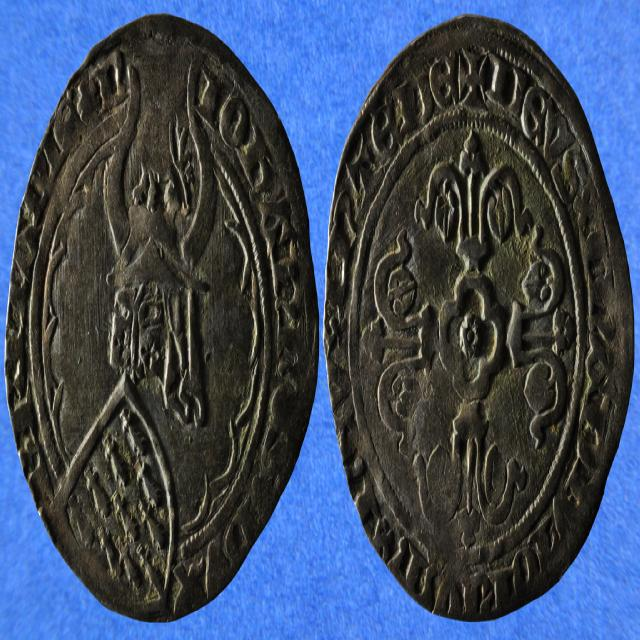Coin: (3, 5, 320, 626), (324, 14, 633, 616)
